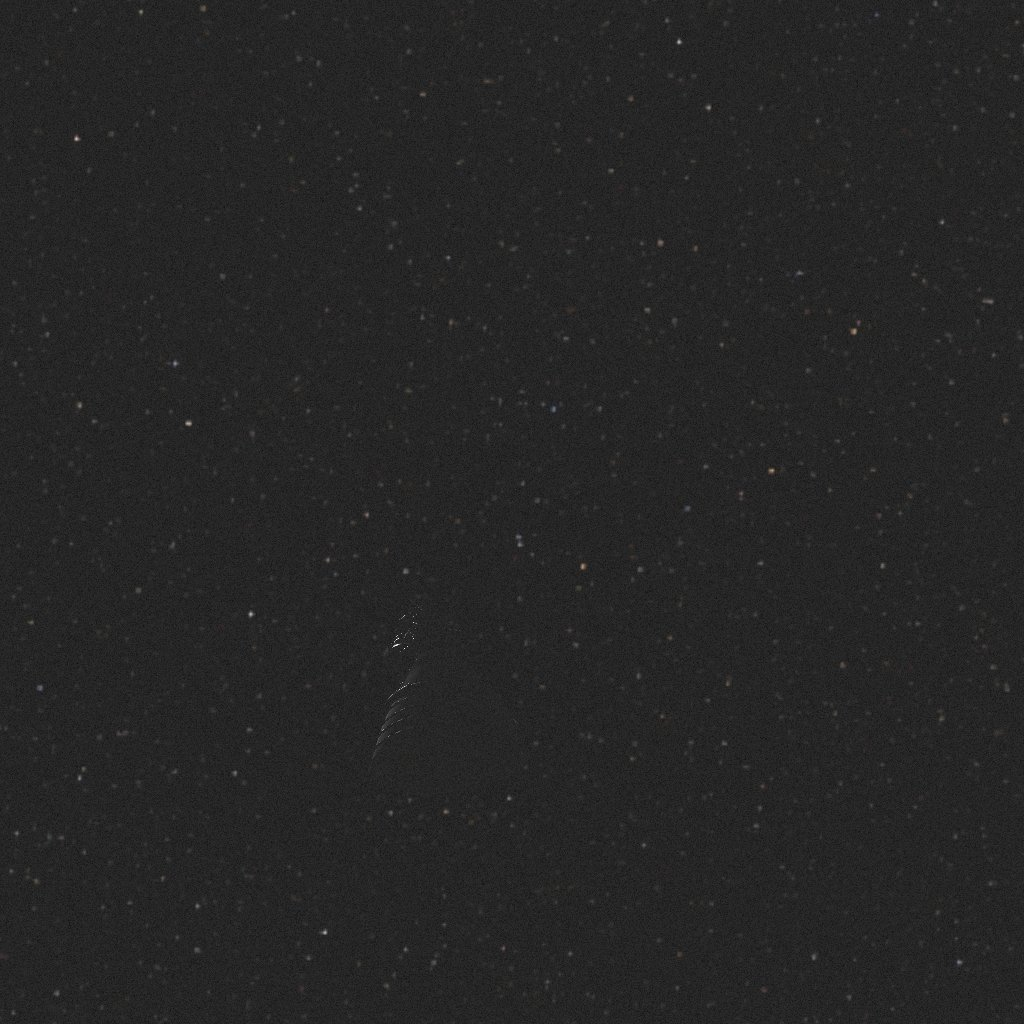debris: (369, 599, 530, 793)
